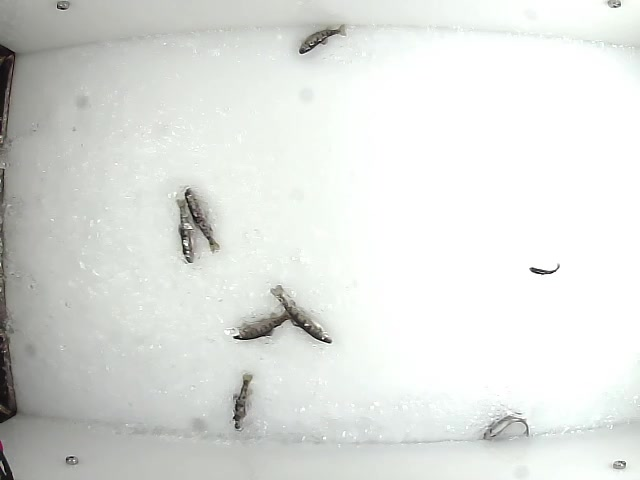fish: (268, 284, 335, 345), (225, 301, 305, 344), (182, 185, 225, 256), (296, 21, 349, 56), (230, 371, 257, 432), (175, 196, 197, 265), (482, 415, 531, 442), (527, 257, 562, 278)
